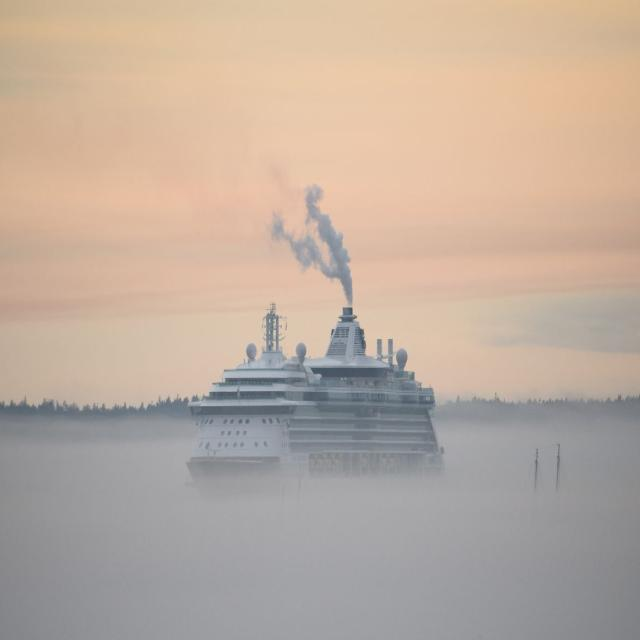passenger ship: (184, 303, 445, 497)
